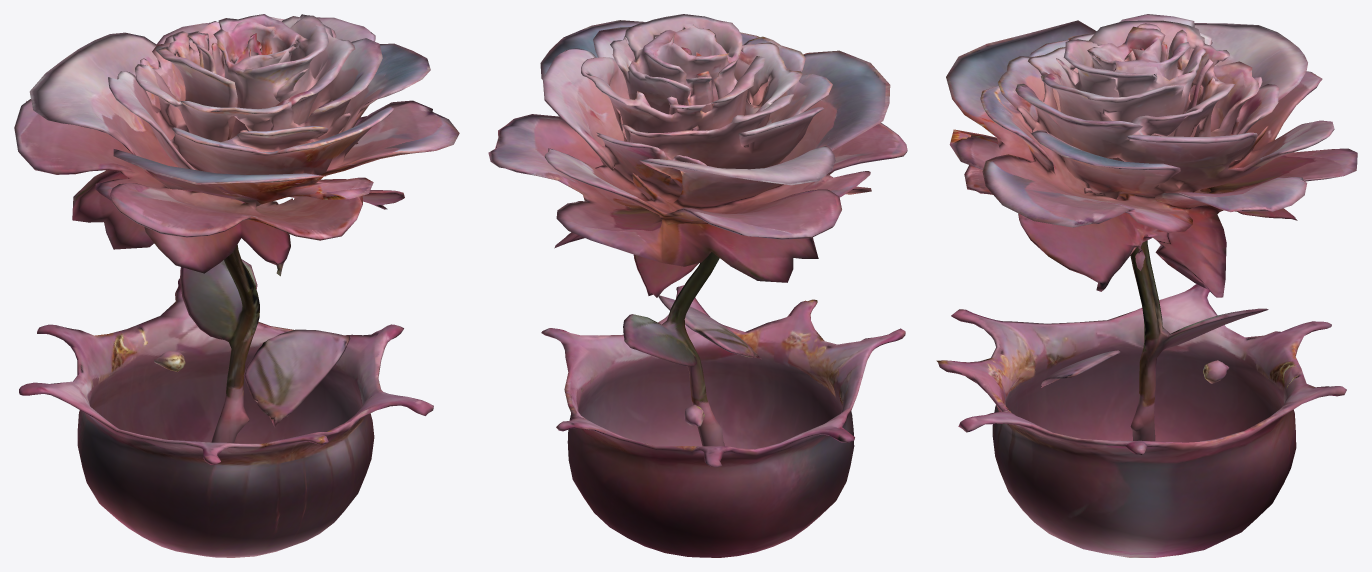
File: Majestic_dynamic_ethe_0126035325_texture.glb
3 views of the same model, side by side, from view 1: azimuth 30°, elevation 25°; view 2: azimuth 150°, elevation 25°; view 3: azimuth 270°, elevation 25° (orthographic). The views are drawn at different scales.
Size of the model in its own units: 1.53 by 1.98 by 1.51.
1 material, 1 textured.
